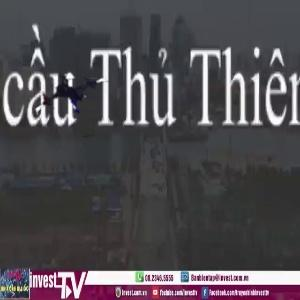drone: (35, 61, 122, 148)
